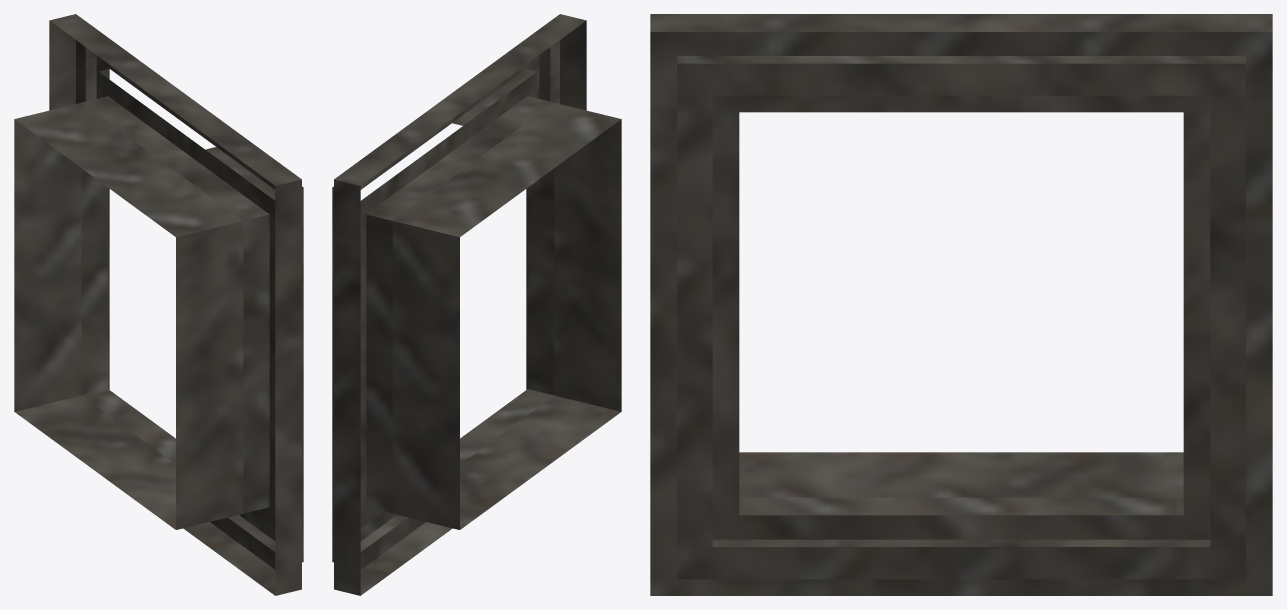
The model's file is okno.fbx.
3 renders of one model, left to right at view 1: azimuth 30°, elevation 25°; view 2: azimuth 150°, elevation 25°; view 3: azimuth 270°, elevation 25°, orthographic. The views are drawn at different scales.
Parts seen in each view (by area): view 1: window; view 2: window; view 3: window.
Boxes of the visible parts, x1=… form: window: x1=14, y1=14, x2=303, y2=595; window: x1=332, y1=14, x2=621, y2=595; window: x1=650, y1=14, x2=1272, y2=595.
Size of the model in its own units: 16.11 by 60.18 by 60.18.
